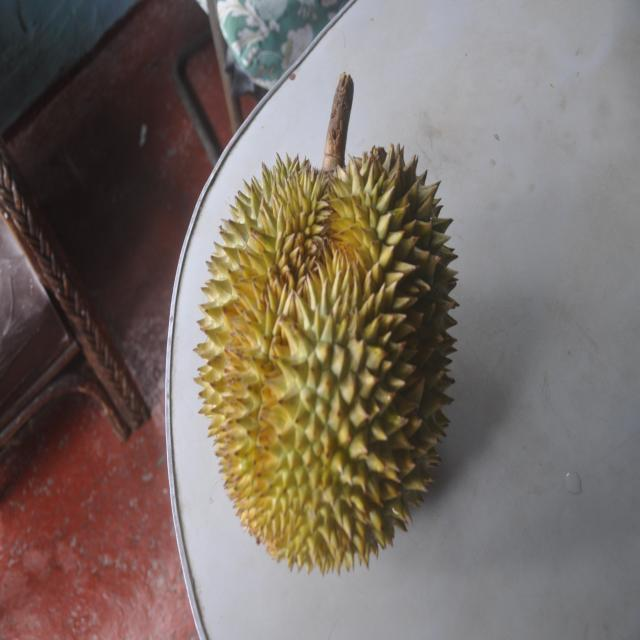mature: (192, 117, 445, 574)
